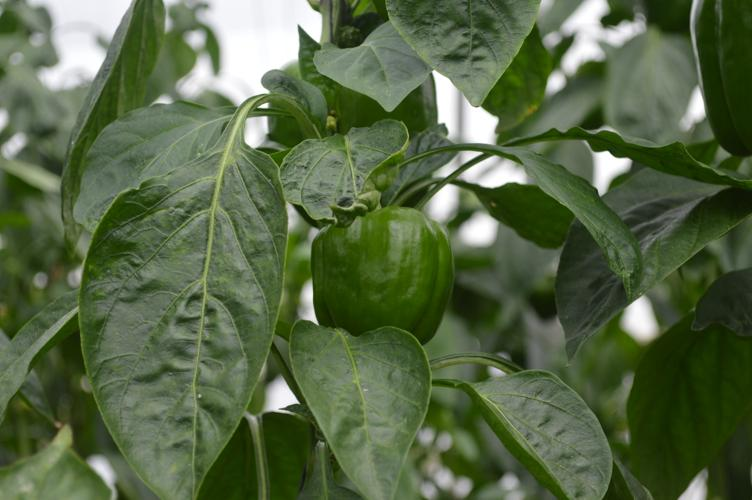BellPepper: (294, 206, 454, 348)
